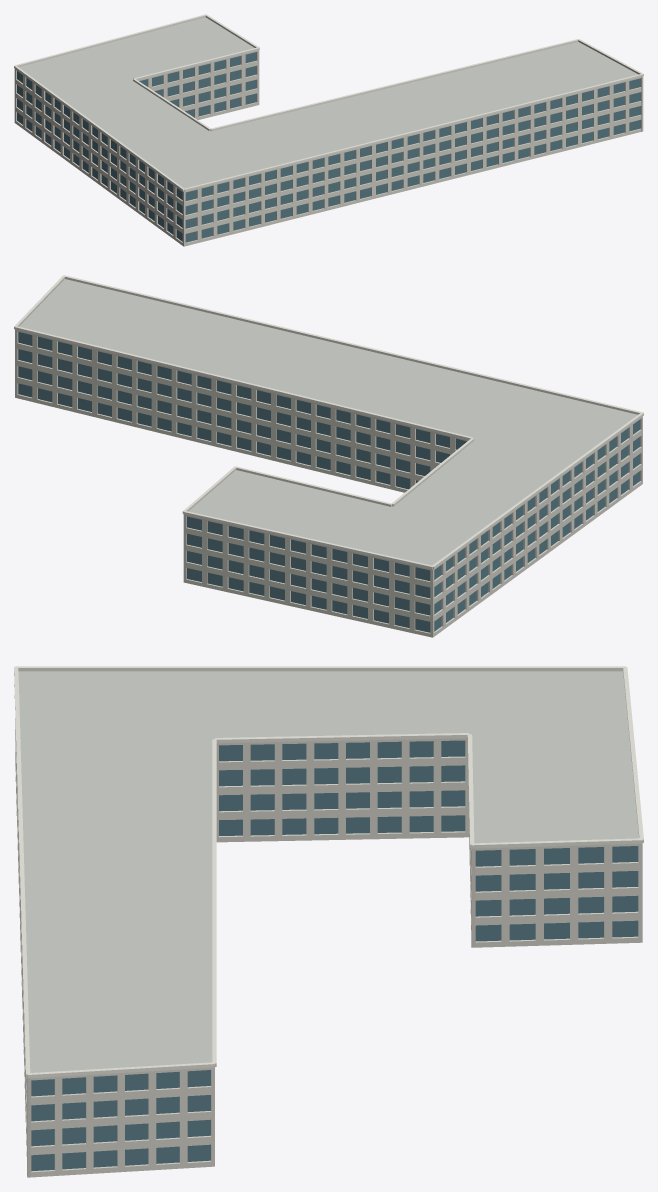
The model's file is sb_1556523887.far.glb.
The picture shows the model from 3 angles, top to bottom: view 1: azimuth 30°, elevation 25°; view 2: azimuth 150°, elevation 25°; view 3: azimuth 270°, elevation 25°; orthographic projection. The views are drawn at different scales.
Visible parts, largest first — view 1: roof, wall, glass, trim; view 2: roof, wall, glass, trim; view 3: roof, wall, glass, trim.
Part boxes in pixels (x1,y1,x2,y2): roof: (19,17,638,188); wall: (14,50,643,246); glass: (17,52,640,242); trim: (14,14,643,191); roof: (19,279,637,565); wall: (15,329,642,637); glass: (18,332,640,632); trim: (14,275,643,569); roof: (18,671,638,1072); wall: (15,722,642,1177); glass: (31,740,638,1171); trim: (14,666,643,1078).
Size of the model in its own units: 111 by 13.04 by 72.14.
